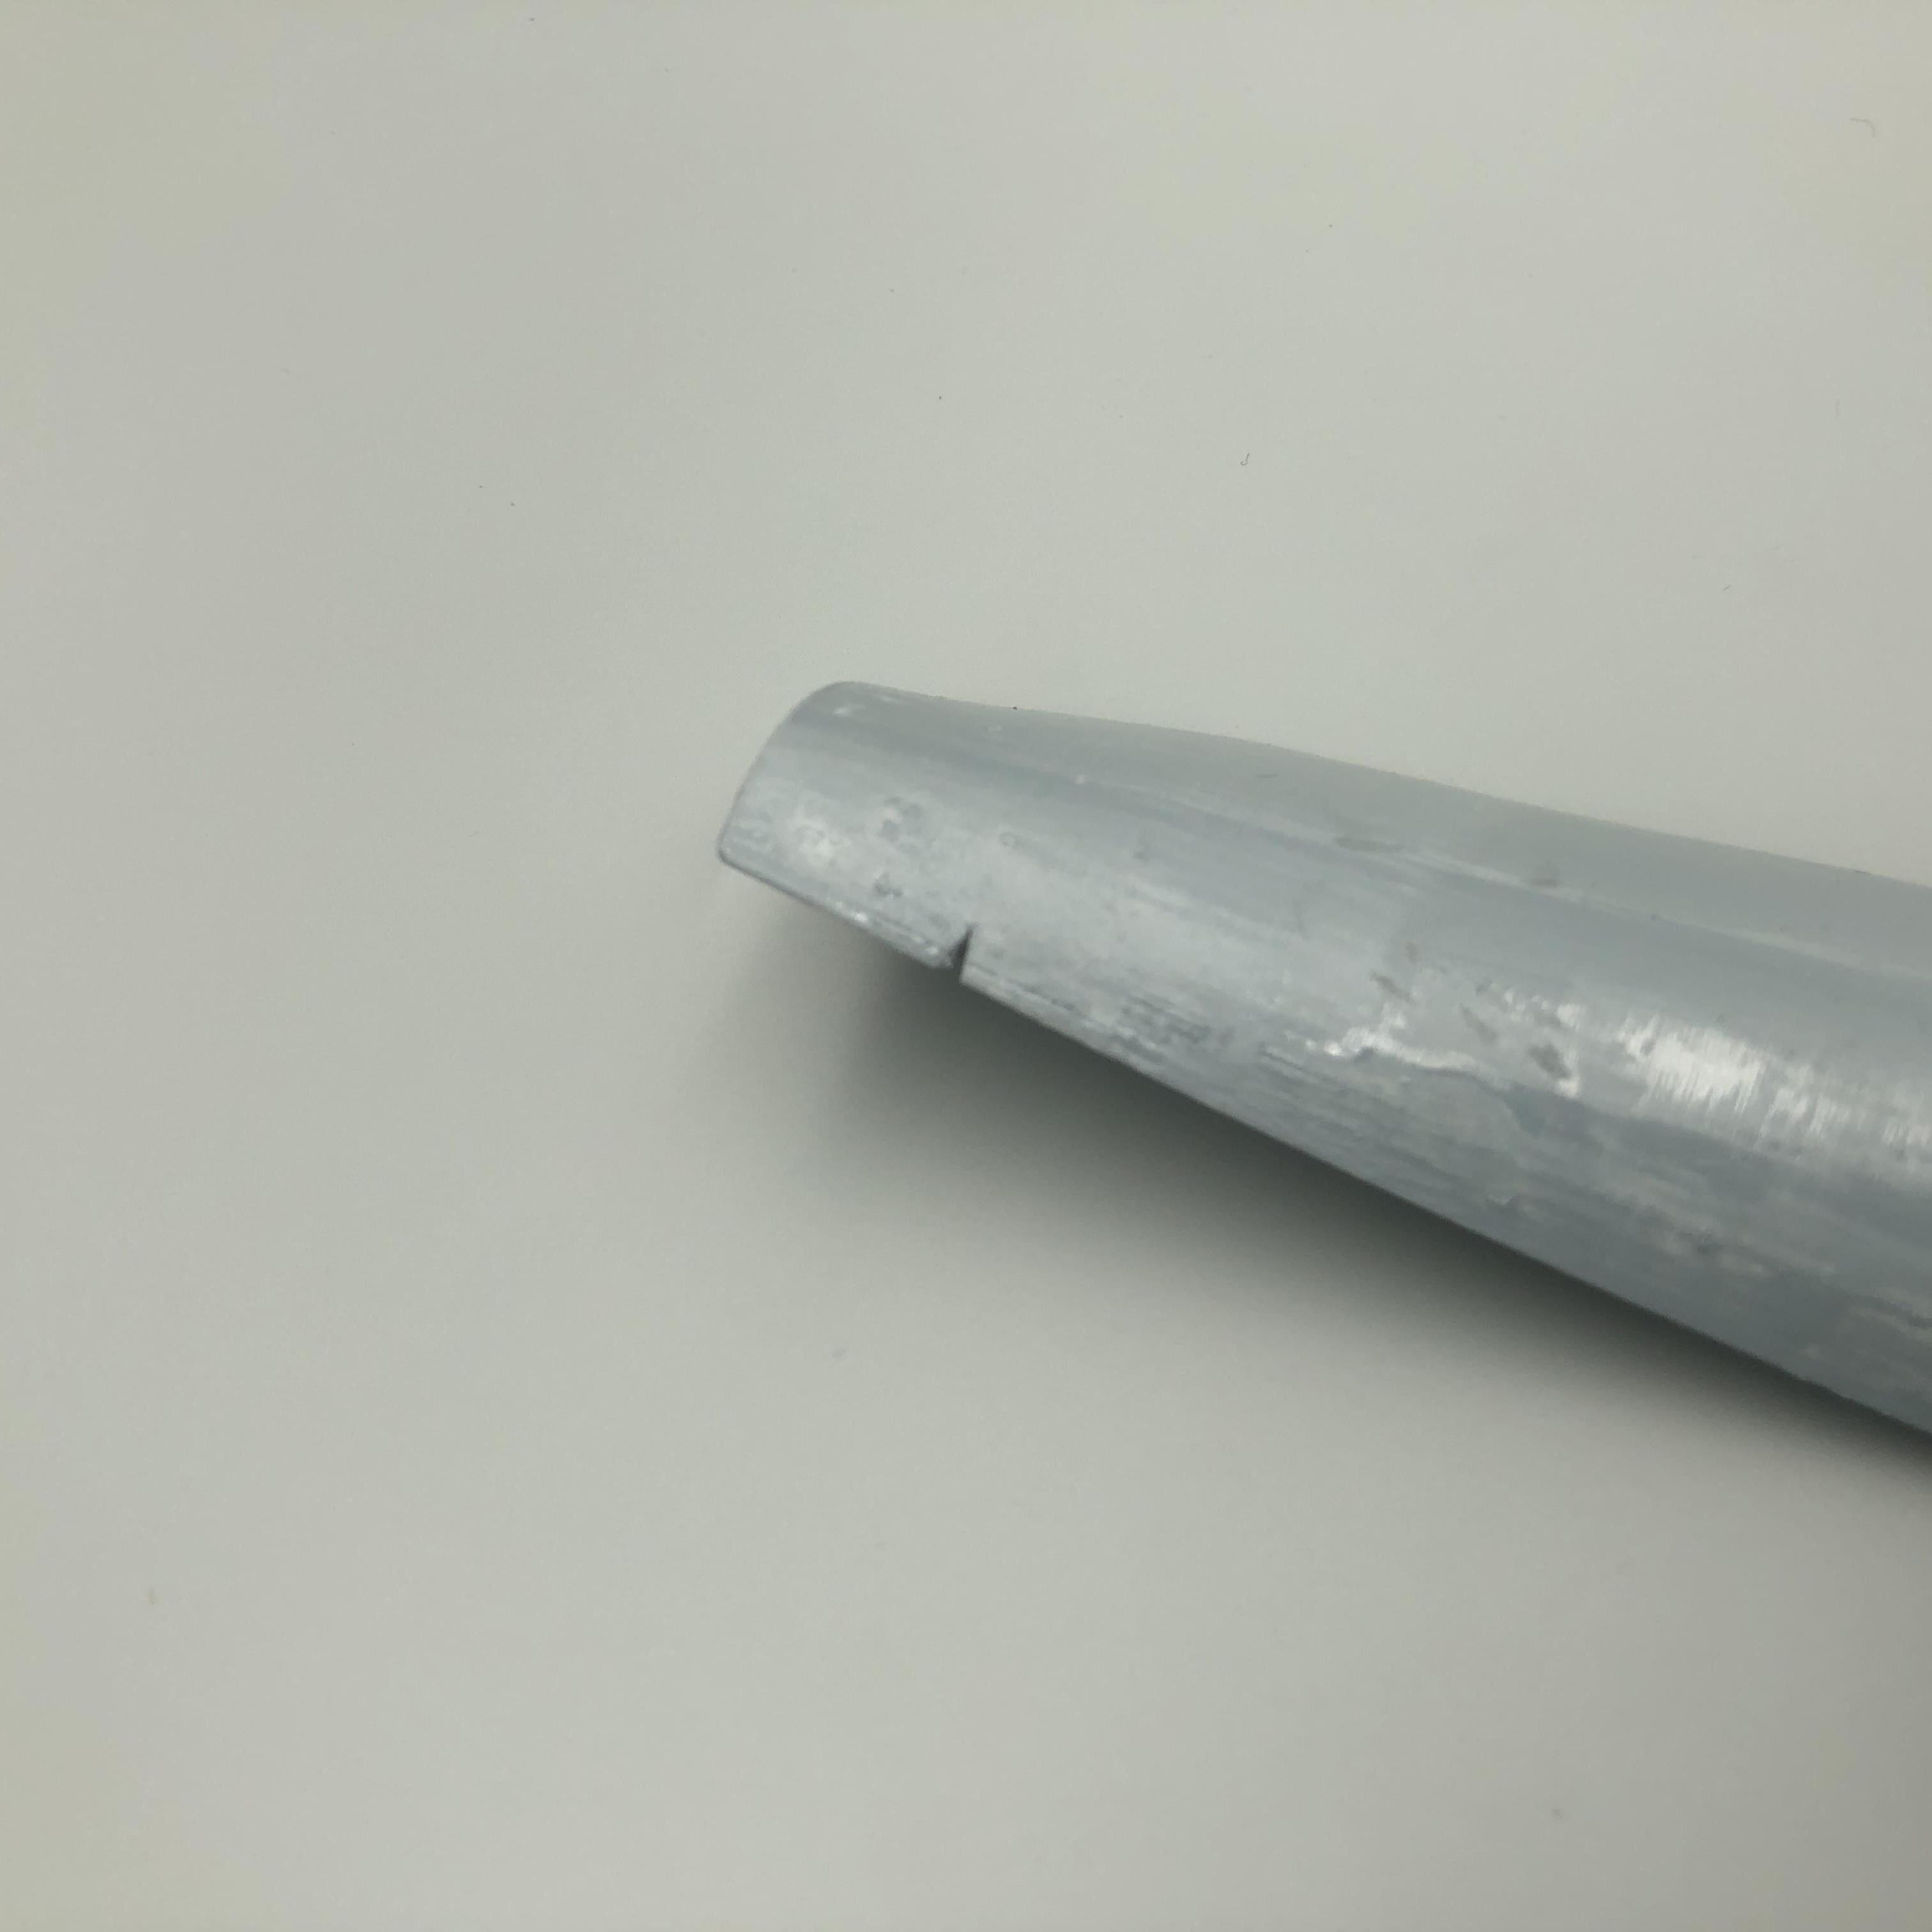groove: (927, 920, 1001, 991)
